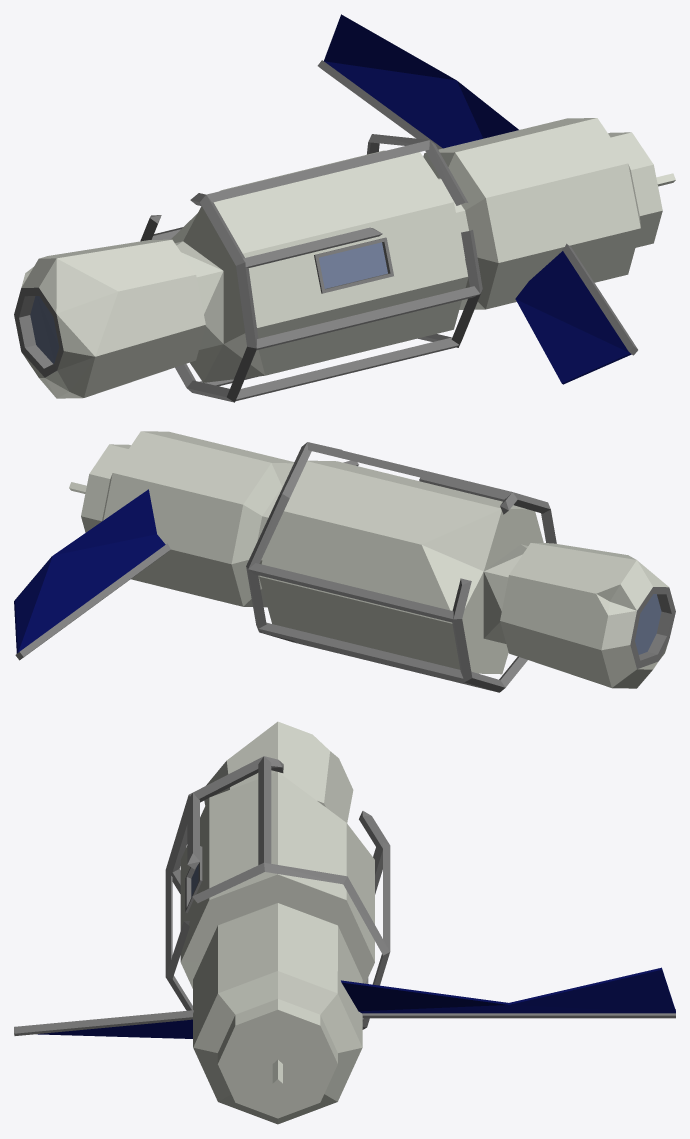
The model's file is satellite_1.fbx.
3 views of the same model, one above another, from view 1: azimuth 30°, elevation 25°; view 2: azimuth 150°, elevation 25°; view 3: azimuth 270°, elevation 25° (orthographic). The views are drawn at different scales.
Parts seen in each view (by area): view 1: satellite_1; view 2: satellite_1; view 3: satellite_1.
Boxes of the visible parts, left/top/right/bottom form: satellite_1: left=14, top=14, right=675, bottom=402; satellite_1: left=14, top=431, right=675, bottom=692; satellite_1: left=14, top=721, right=675, bottom=1124.
Size of the model in its own units: 830 by 261 by 768.
